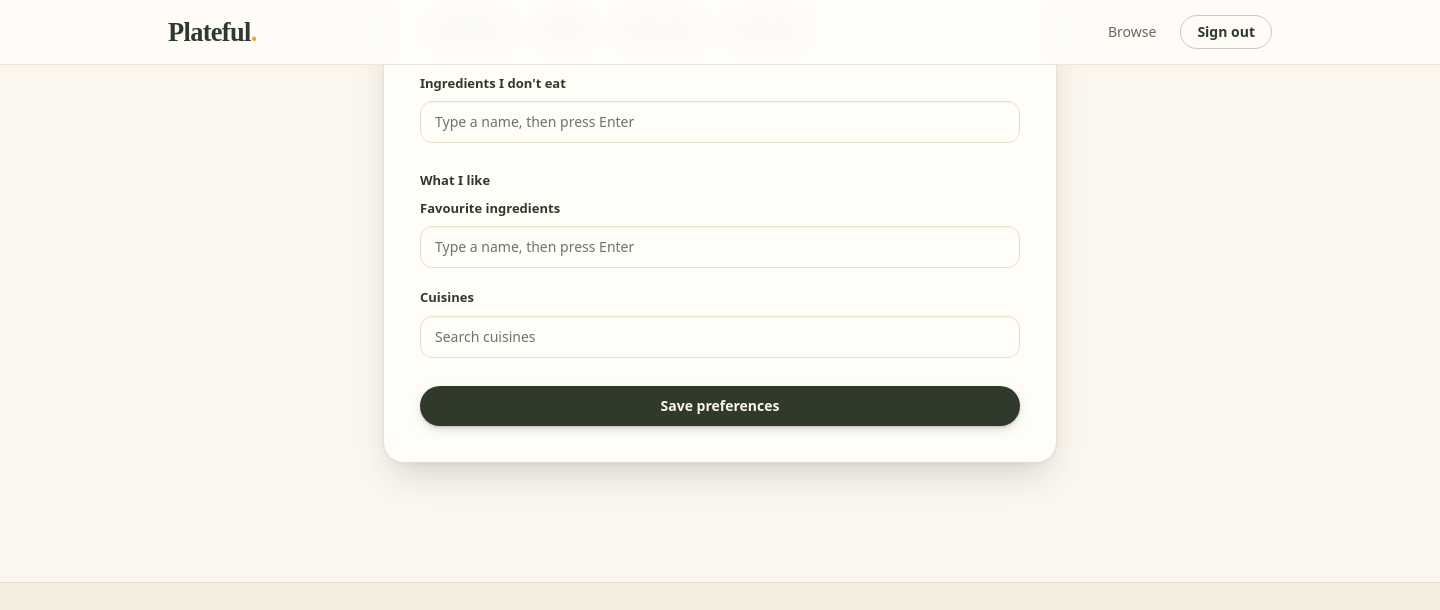
Scenario: setup page › clears the allergy error once something is chosen
The width and height of the screenshot is (1440, 610).
(page scrolled)
Click the button "Save preferences": (720, 406) 420,386 -> 1020,426
(page scrolled)
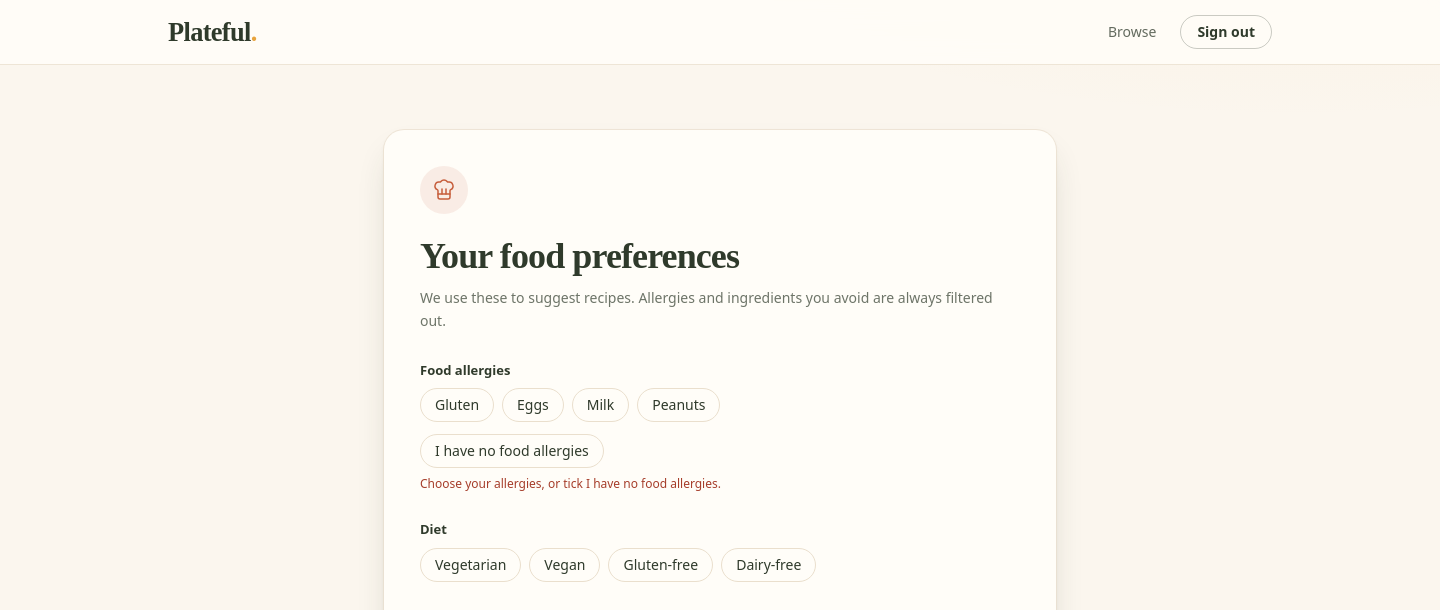
Expected: the text "Choose your allergies, or tick I have no food allergies." is shown, 420,475 -> 721,492
Click the checkbox labelled "Eggs": (533, 405) 502,388 -> 564,422
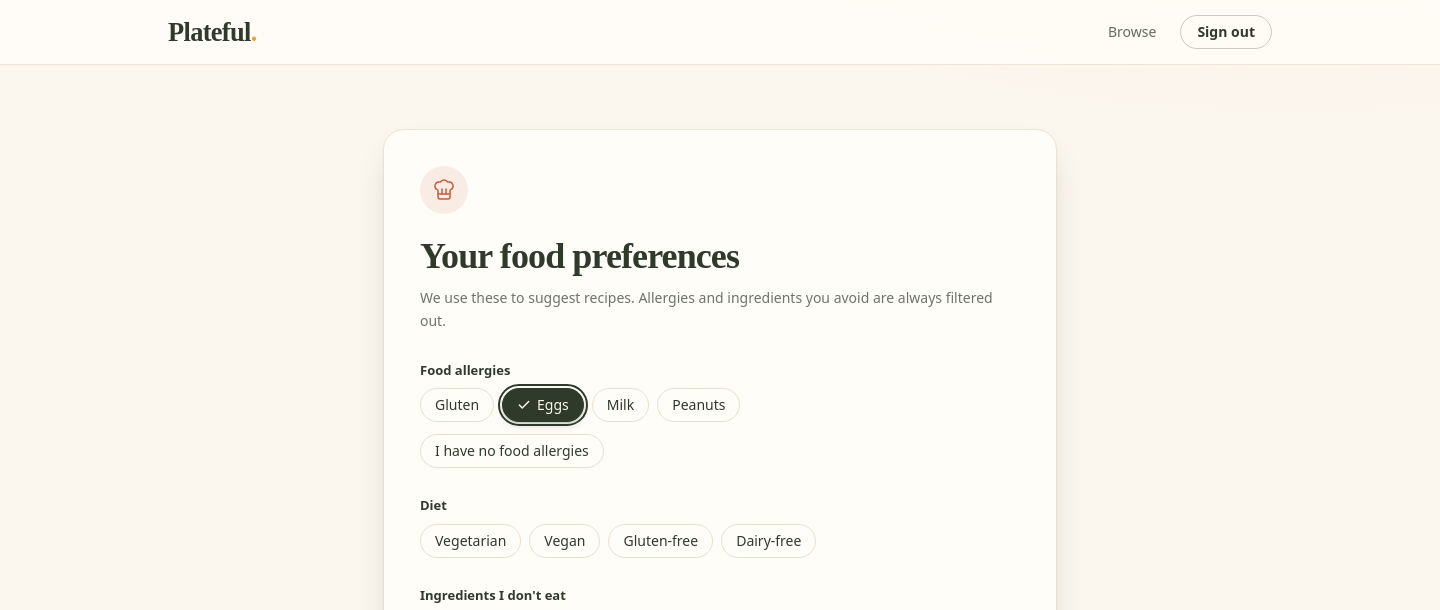
Expected: the text "Choose your allergies, or tick I have no food allergies." is gone
